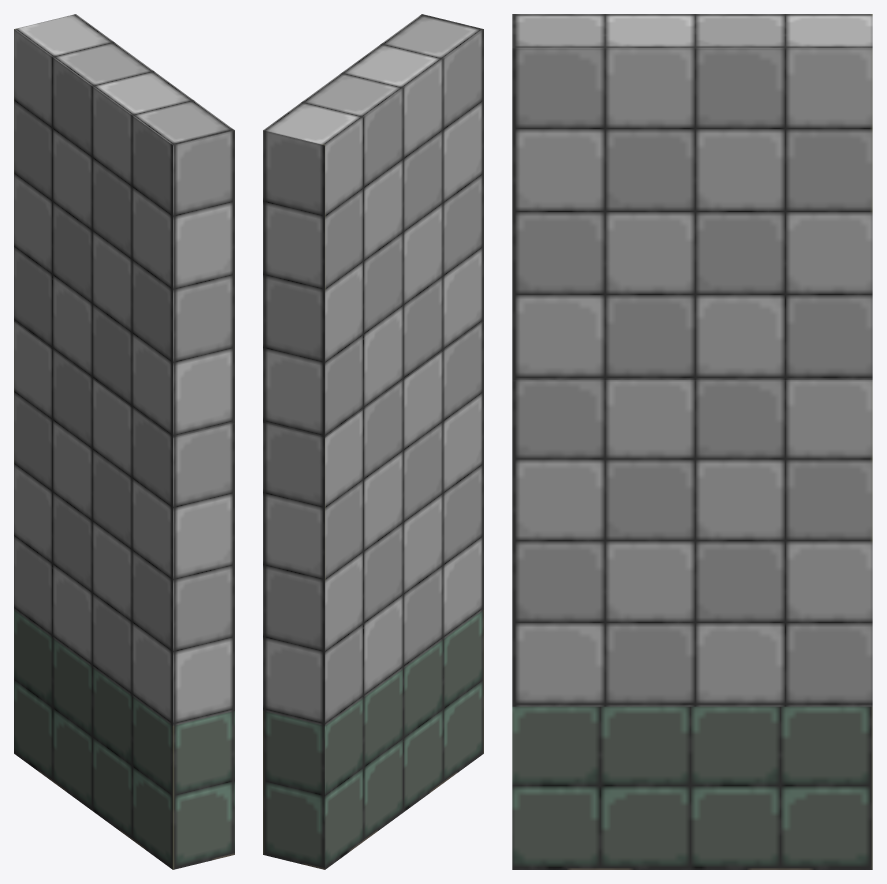
File: obj_wall_1x2m_v5.fbx
3 renders of one model, left to right at view 1: azimuth 30°, elevation 25°; view 2: azimuth 150°, elevation 25°; view 3: azimuth 270°, elevation 25°, orthographic. The views are drawn at different scales.
Parts seen in each view (by area): view 1: obj_wall_1x2m_v5; view 2: obj_wall_1x2m_v5; view 3: obj_wall_1x2m_v5.
Part boxes in pixels (x1,y1,x2,y2): obj_wall_1x2m_v5: [14, 14, 234, 869]; obj_wall_1x2m_v5: [263, 14, 483, 869]; obj_wall_1x2m_v5: [512, 14, 872, 869].
Size of the model in its own units: 22.5 by 252 by 100.
